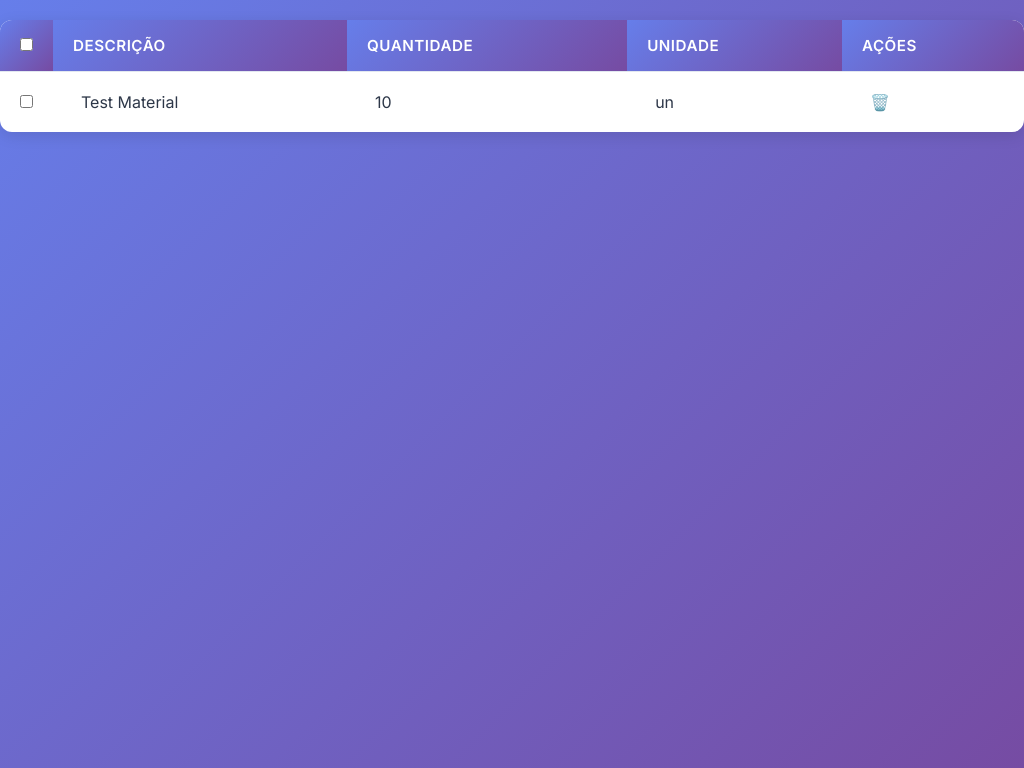
Test case: MaterialsTable › shows error for invalid quantity (non-numeric)
Note: Start editing quantity
Click the text "10" at (383, 102), box [375,92,392,112]
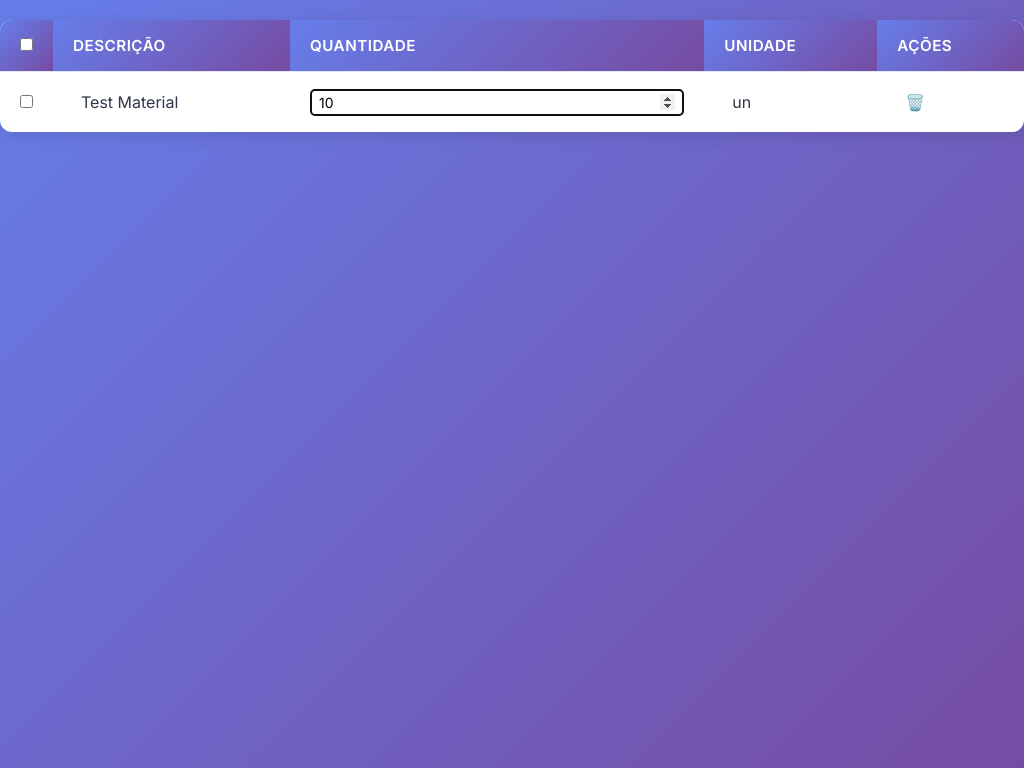
Replace the text in the number field showing "10" with "invalid" at (497, 102), box [310,88,684,116]
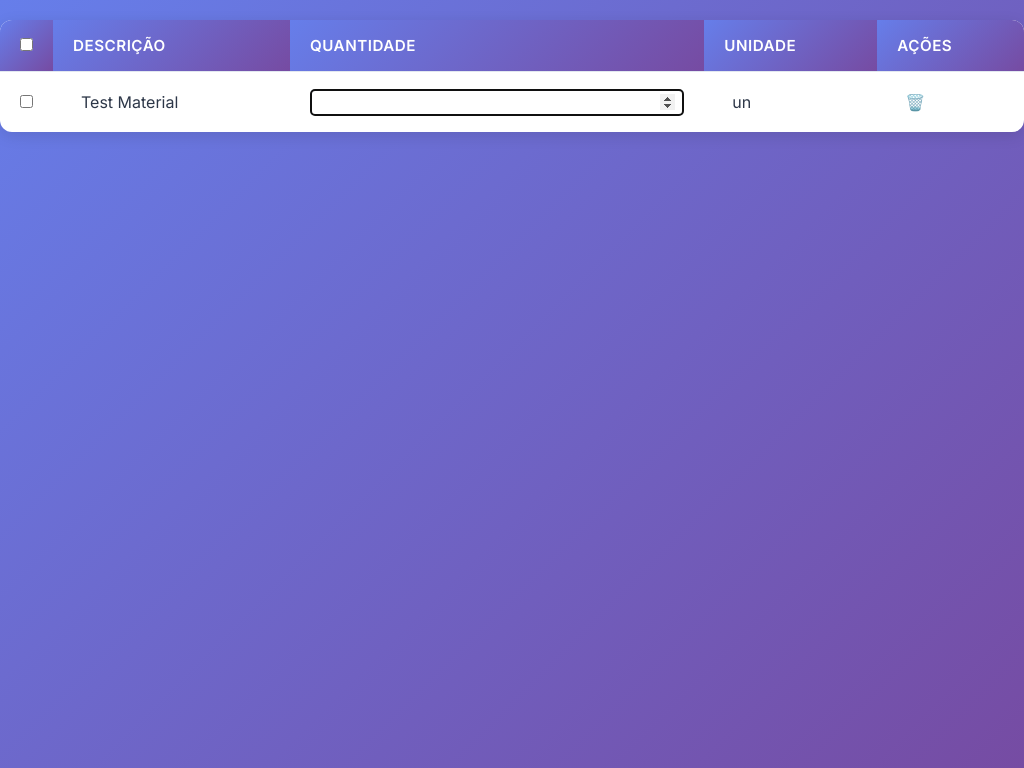
Press Enter
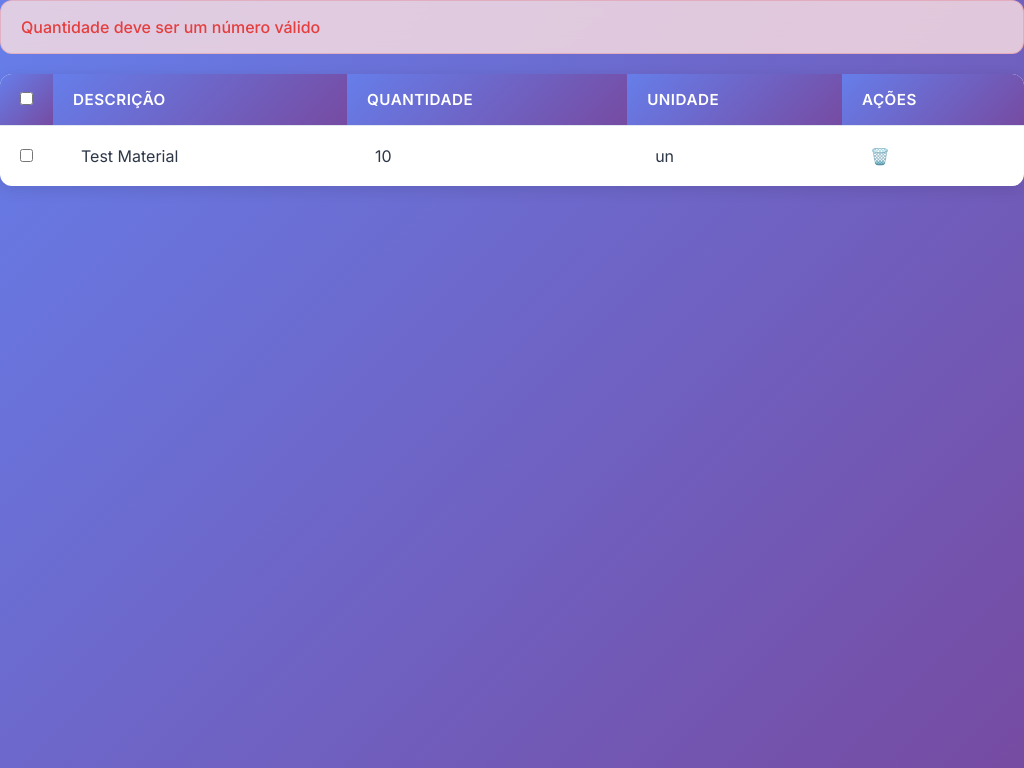
Expected: the text "Quantidade deve ser um número válido" is shown, [0,0,1023,54]
